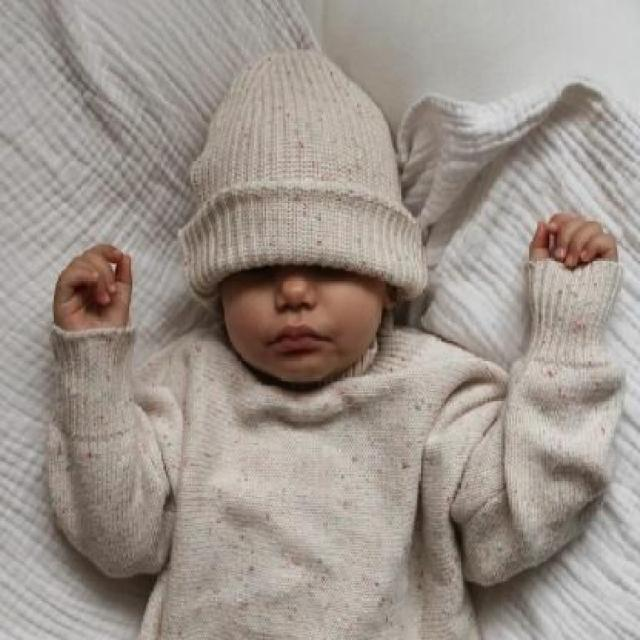baby: (46, 46, 617, 639)
